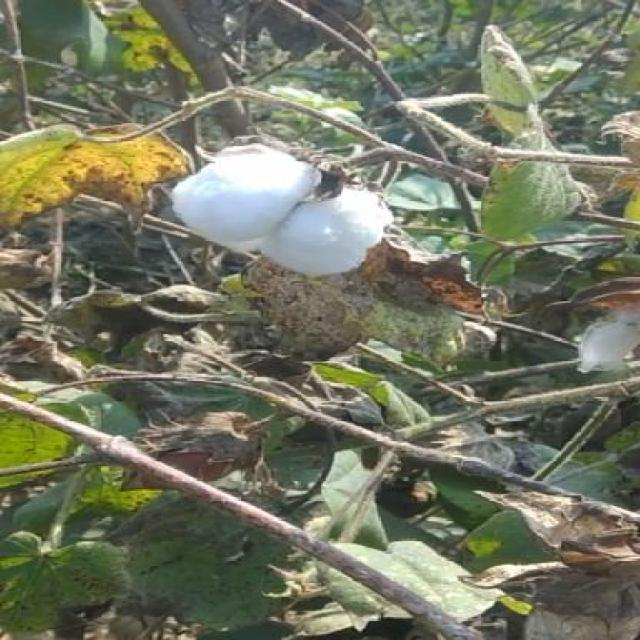cotton_ready: (179, 147, 386, 282)
